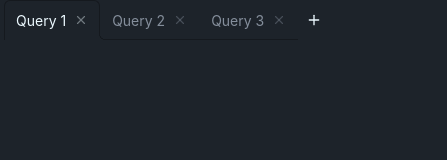
Test: TabStrip › opens a tab in front of the others
Click the button named "New query tab": (314, 20) [302, 8, 326, 32]
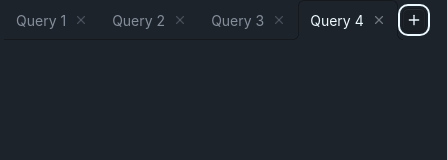
Result: the tab "Query 4" is shown at [298, 0, 398, 40]
